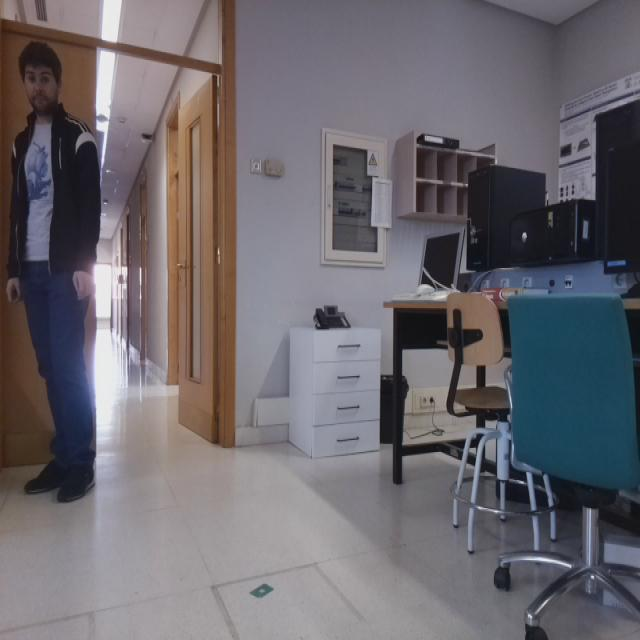person: (6, 43, 99, 513)
